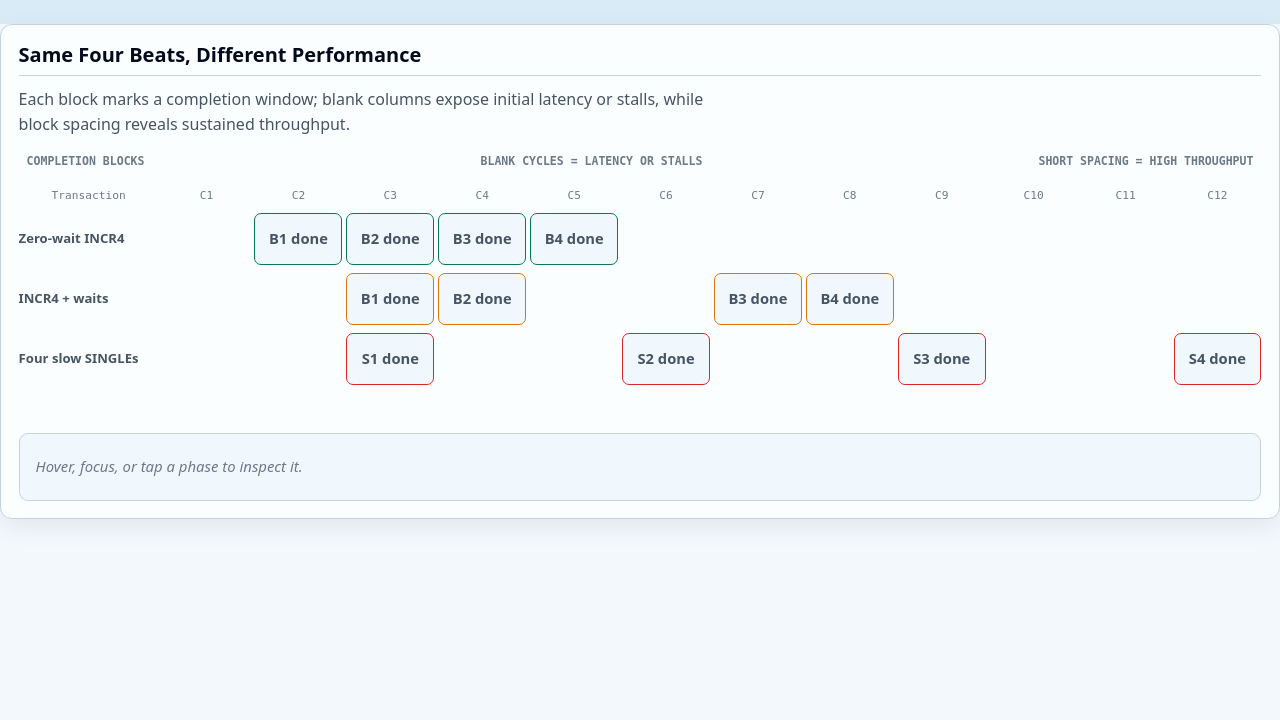
Test: production visual rendering › explains performance phases when a timeline control receives focus
Expected: the heading "Same Four Beats, Different Performance" is shown, [19,43,1261,76]
Step 1. Focus the button with aria-label "Zero-wait INCR4: B2 done, cycles 3 to 4" → (390, 239), box [346,213,434,265]
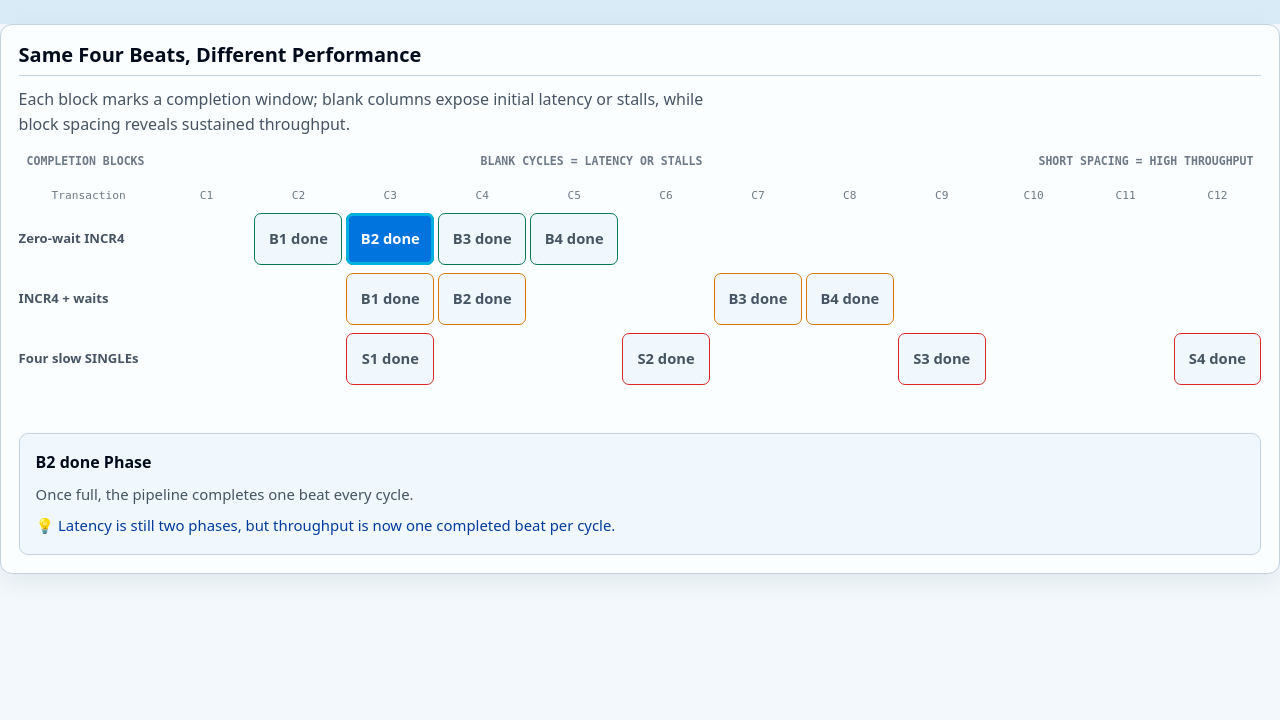
Now the text "Once full, the pipeline completes one beat every cycle." is shown, box [36,484,414,504]
